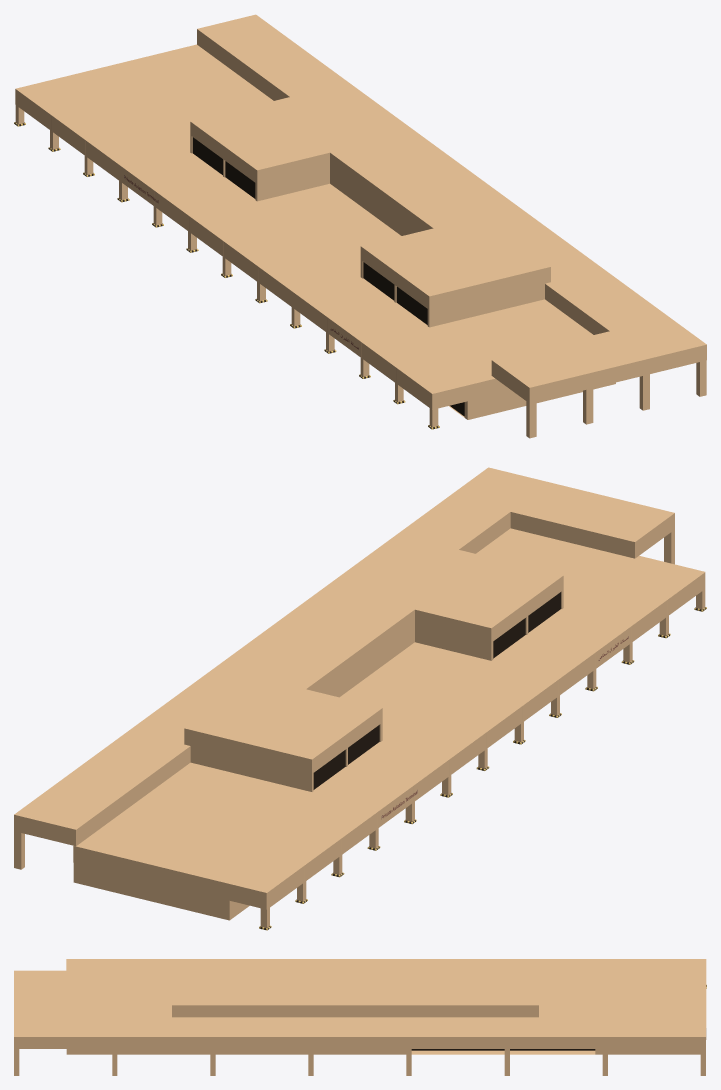
The model's file is oerk-pt.gltf.
3 renders of one model, top to bottom at view 1: azimuth 30°, elevation 25°; view 2: azimuth 150°, elevation 25°; view 3: azimuth 270°, elevation 25°, orthographic. The views are drawn at different scales.
Visible parts, largest first — view 1: Cube.003, Cube, Cube.002, Cube.001, Cube.004; view 2: Cube.003, Cube, Cube.001, Cube.002; view 3: Cube.003, Cube, Cube.001, Cube.005.
Part boxes in pixels (bbox=[...]): Cube.003: bbox=[190, 14, 706, 403]; Cube: bbox=[15, 44, 593, 409]; Cube.002: bbox=[14, 105, 439, 429]; Cube.001: bbox=[449, 382, 615, 419]; Cube.004: bbox=[526, 374, 649, 438]; Cube.003: bbox=[14, 467, 674, 846]; Cube: bbox=[73, 528, 705, 909]; Cube.001: bbox=[73, 863, 249, 920]; Cube.002: bbox=[259, 589, 706, 930]; Cube.003: bbox=[14, 960, 705, 1048]; Cube: bbox=[66, 959, 706, 1039]; Cube.001: bbox=[66, 1049, 700, 1054]; Cube.005: bbox=[14, 1049, 705, 1075].
Size of the model in its own units: 48.83 by 12.79 by 158.
